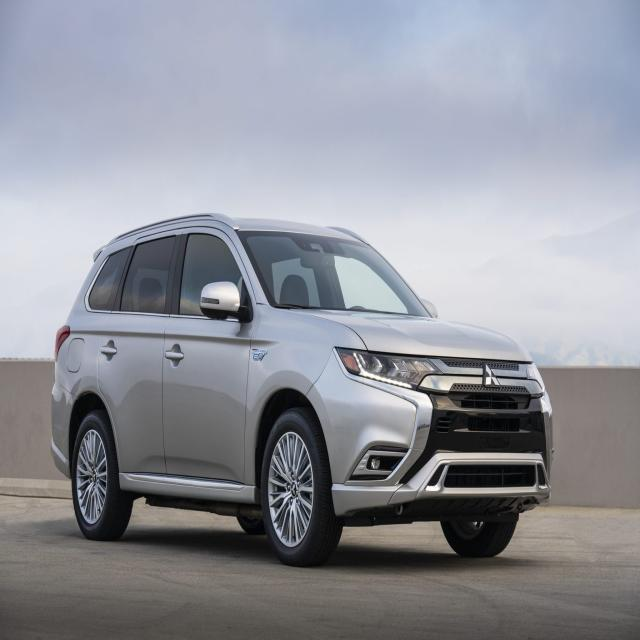light_vehicle: (49, 213, 555, 568)
